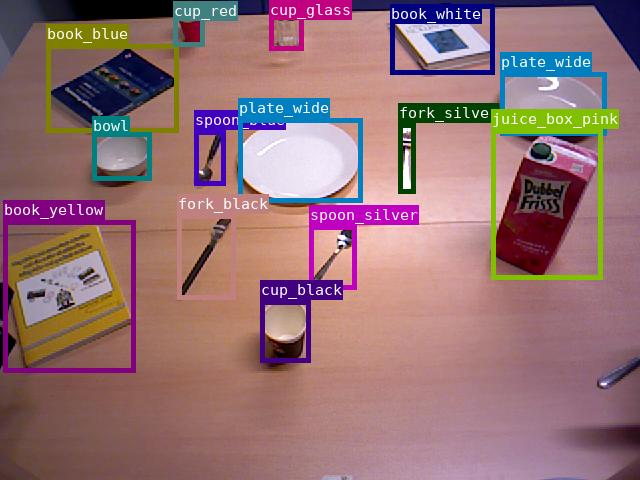book_blue: (46, 44, 178, 132)
book_white: (390, 4, 494, 74)
book_yellow: (3, 220, 135, 372)
bowl: (92, 132, 151, 180)
cup_black: (260, 300, 310, 362)
cup_glass: (269, 0, 303, 50)
cup_red: (173, 1, 204, 46)
fork_black: (177, 214, 235, 299)
fork_silver: (398, 123, 415, 193)
juice_box_pink: (491, 129, 602, 279)
plate_wide: (238, 118, 362, 202), (500, 72, 606, 135)
spoon_blue: (194, 130, 225, 185)
spoon_silver: (309, 225, 356, 289)
